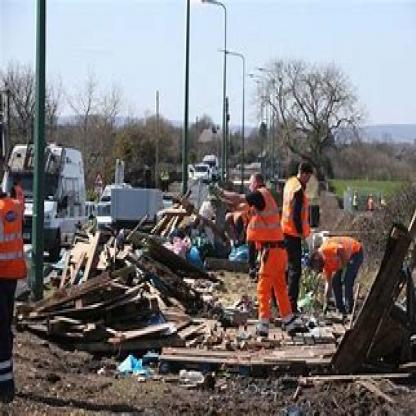person: (219, 154, 300, 353), (311, 215, 375, 342), (287, 146, 318, 338)
